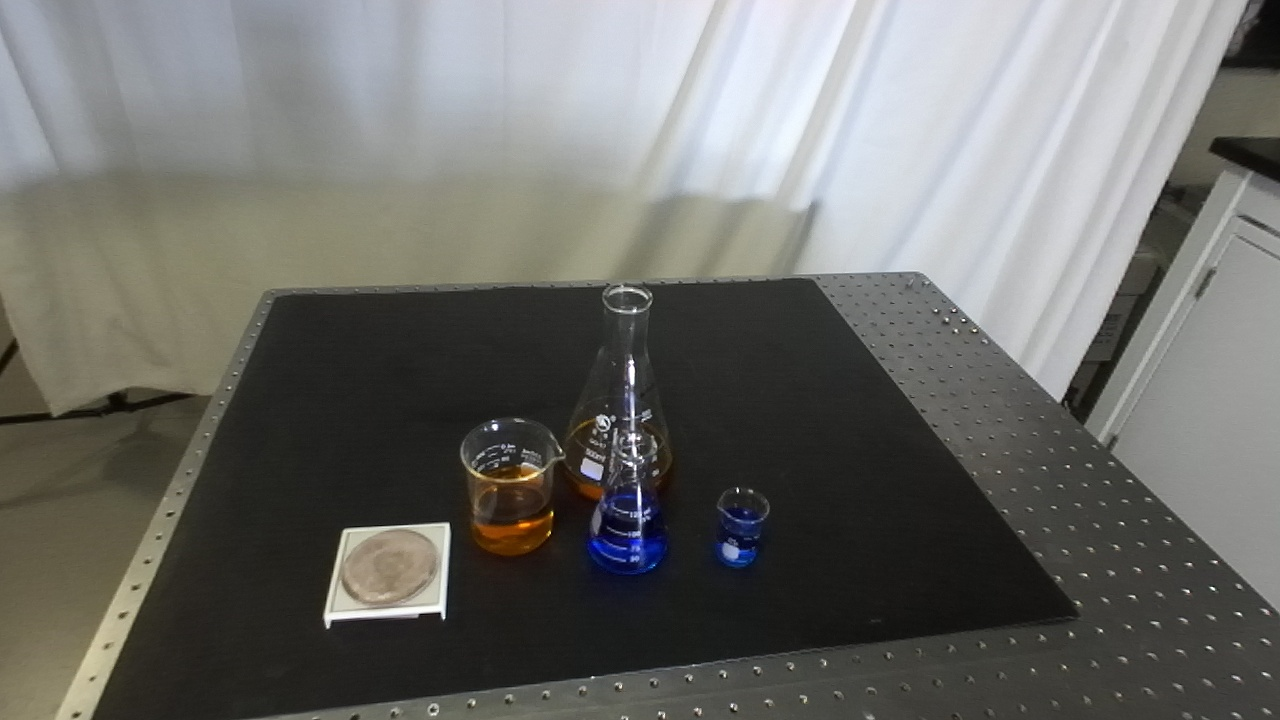glass: (561, 281, 674, 509), (459, 415, 564, 559), (585, 428, 671, 579), (714, 487, 772, 574)
plate: (325, 518, 450, 635)
